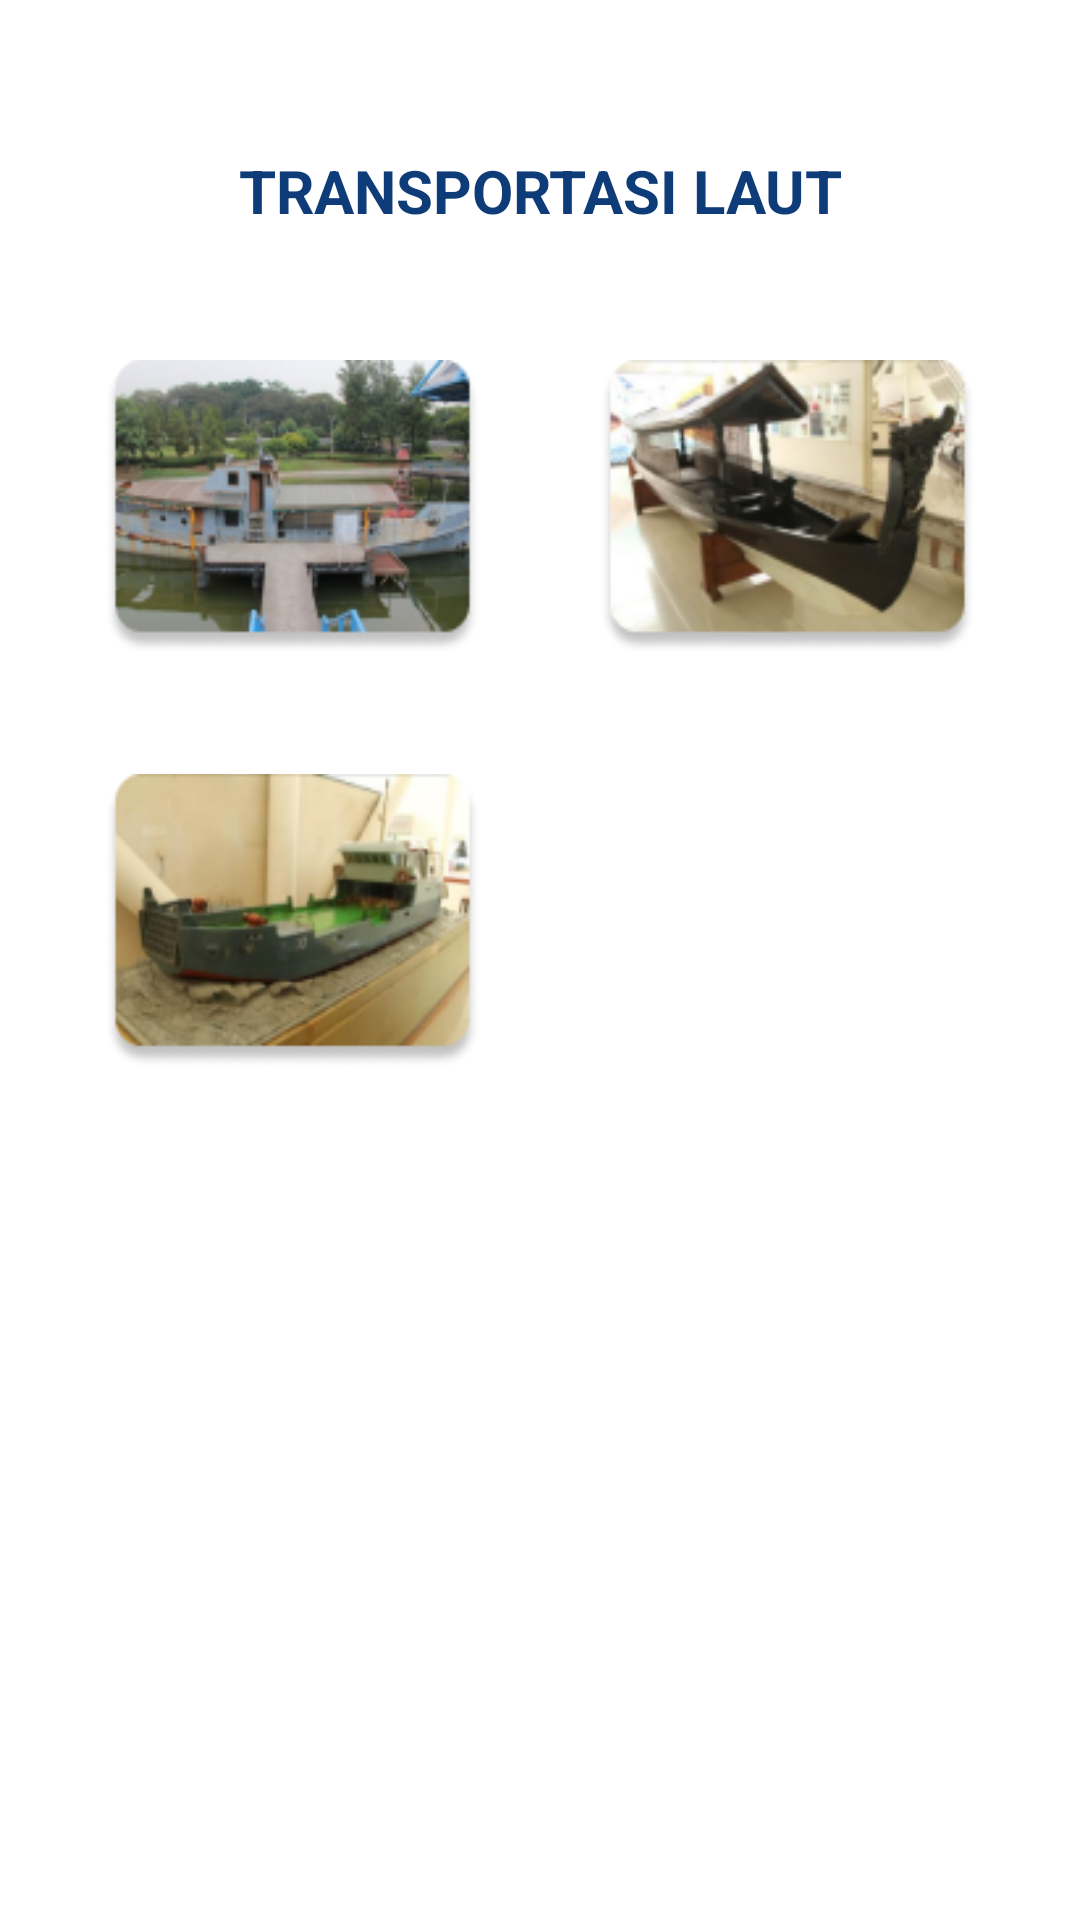

Screen size 1080px×1920px. Icon name, then its center in pixels as point (x, y):
kapalpatroli: point (292, 502)
perahu banjar: point (787, 502)
